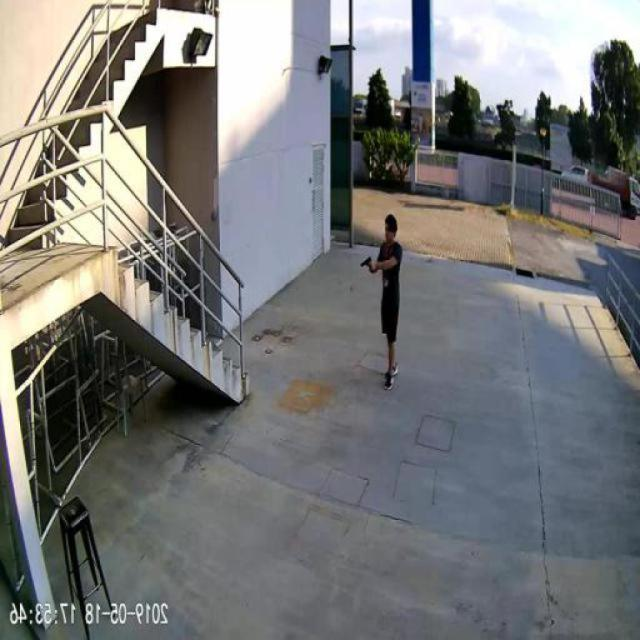pistol: (362, 253, 373, 267)
